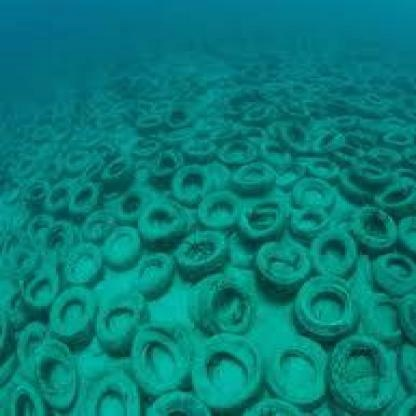tire: (185, 265, 291, 341), (338, 331, 416, 413), (282, 271, 371, 341), (198, 333, 274, 395), (127, 327, 198, 389), (196, 188, 274, 242), (254, 247, 317, 293), (304, 169, 347, 231), (142, 199, 190, 247), (58, 292, 112, 333), (162, 164, 216, 203), (56, 187, 110, 223)
